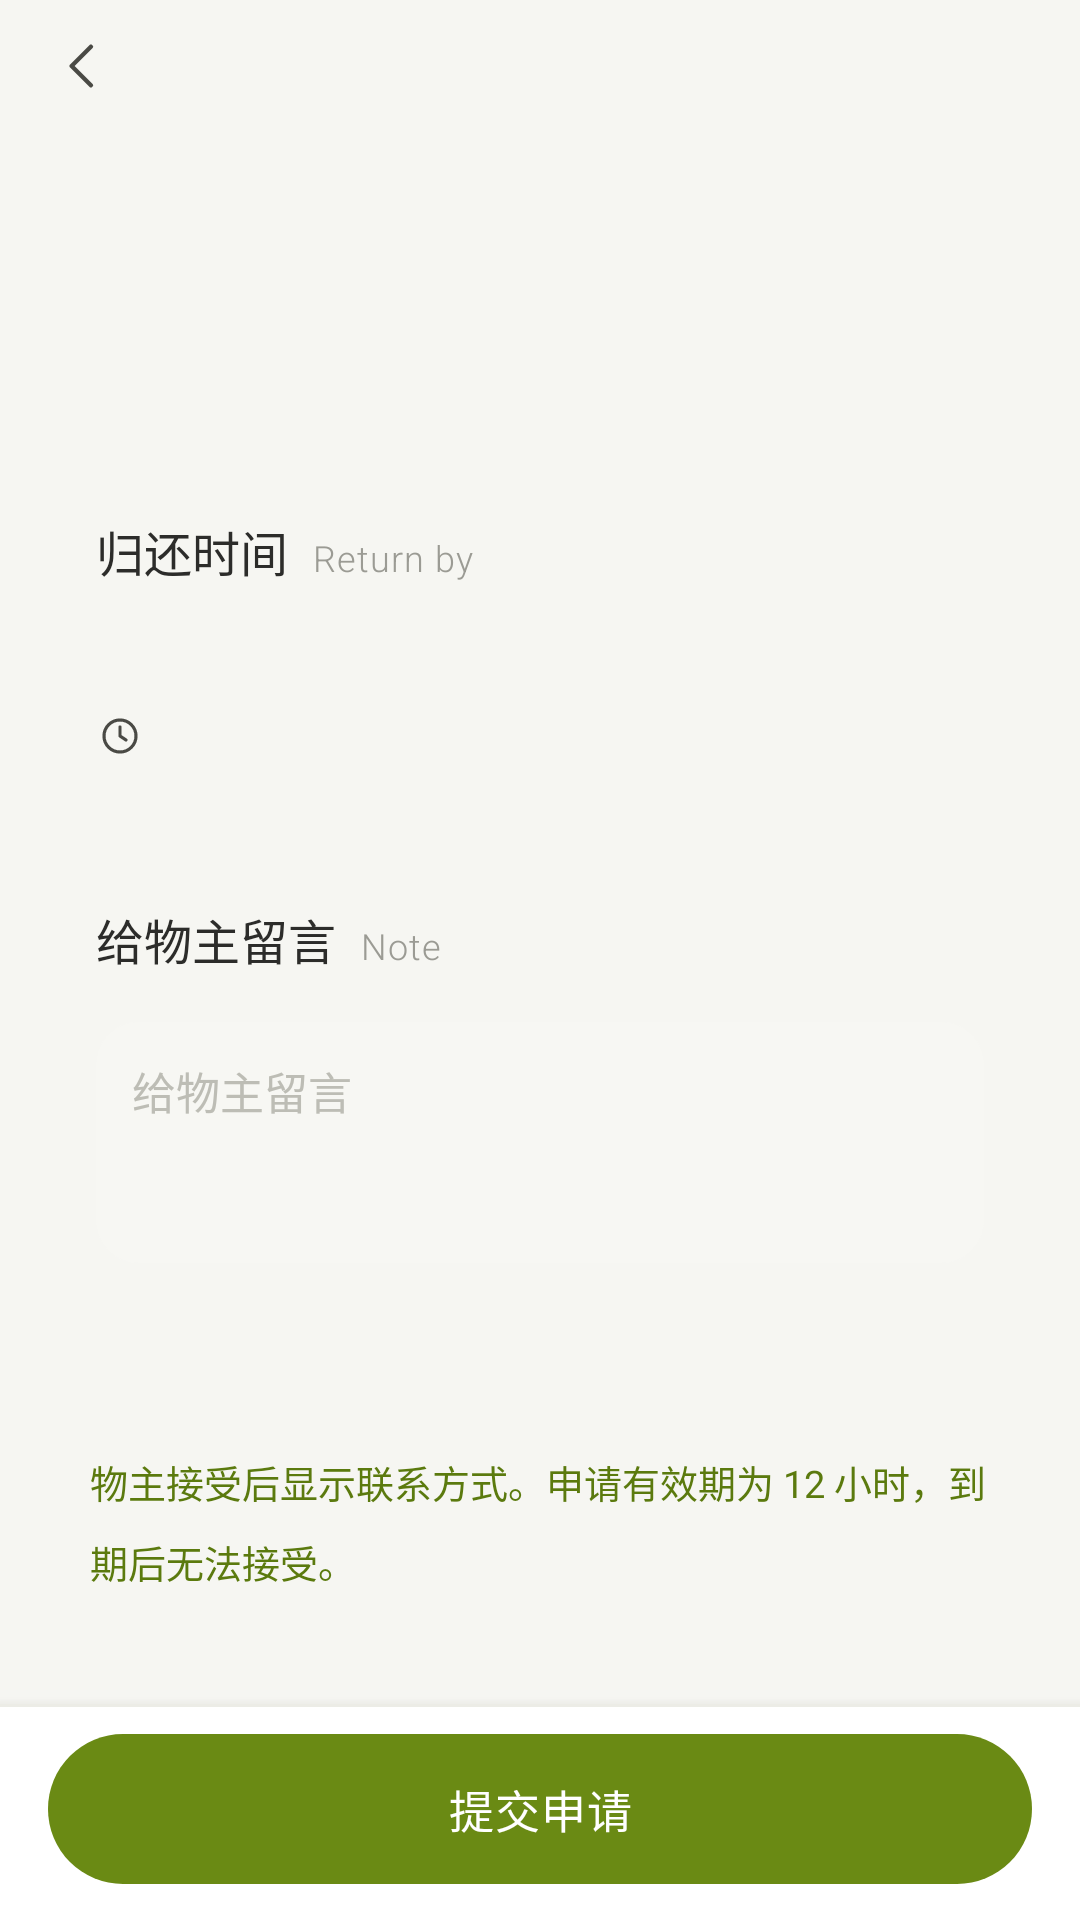

Point at icon controls on the screen. Image size 1080px x 1920px, points as [x,y].
clock: [120,736]
返回: [81,66]
